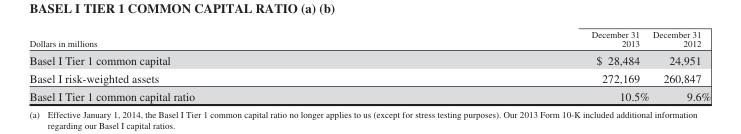table: (28, 28, 710, 102)
table column: (28, 28, 392, 102), (392, 28, 650, 102), (650, 28, 710, 102)
table column header: (28, 28, 710, 50)
table row: (28, 28, 710, 50), (28, 50, 710, 69), (28, 69, 710, 87), (28, 87, 710, 102)
